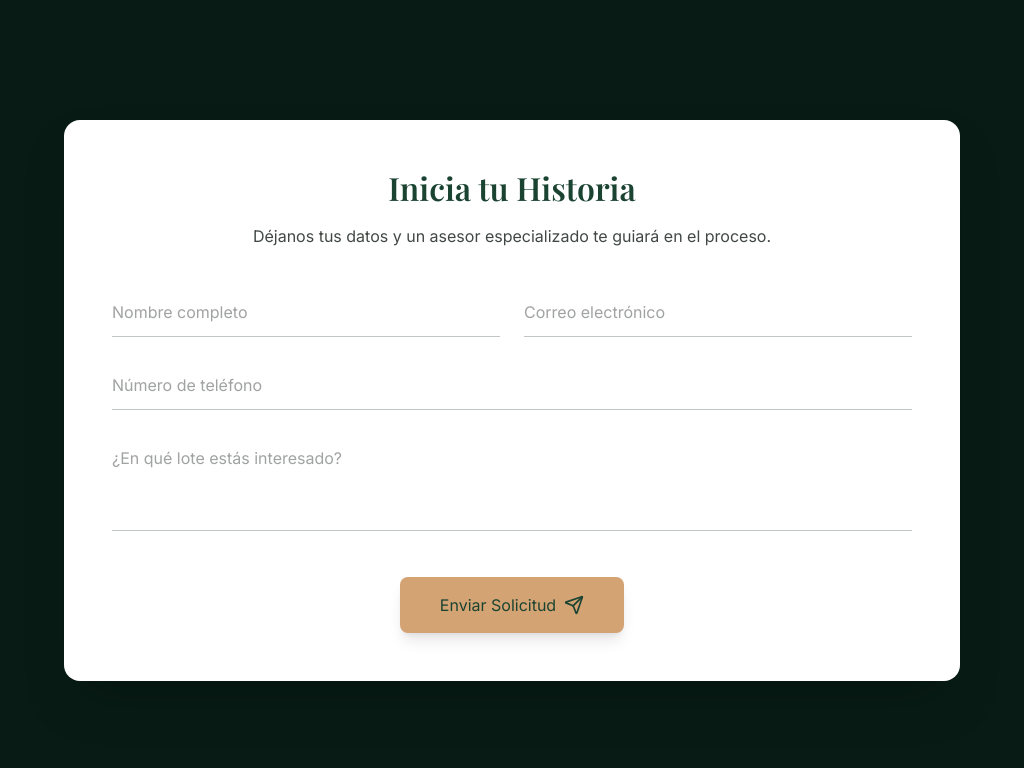
Scenario: ContactForm › validates email format
This screenshot has width=1024, height=768.
Type "Juan Pérez" into the field with placeholder "Nombre completo".
click(306, 312); type("Juan Pérez")  # box [112, 288, 500, 337]
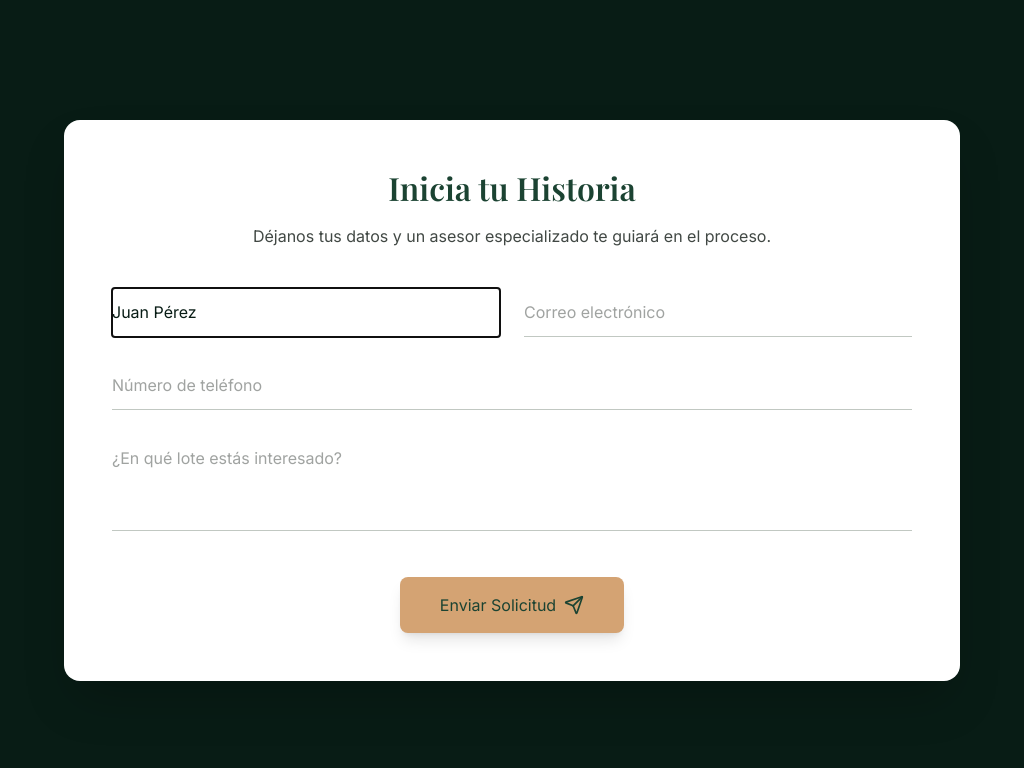
Type "email-invalido" into the field with placeholder "Correo electrónico".
click(718, 312); type("email-invalido")  # box [524, 288, 912, 337]
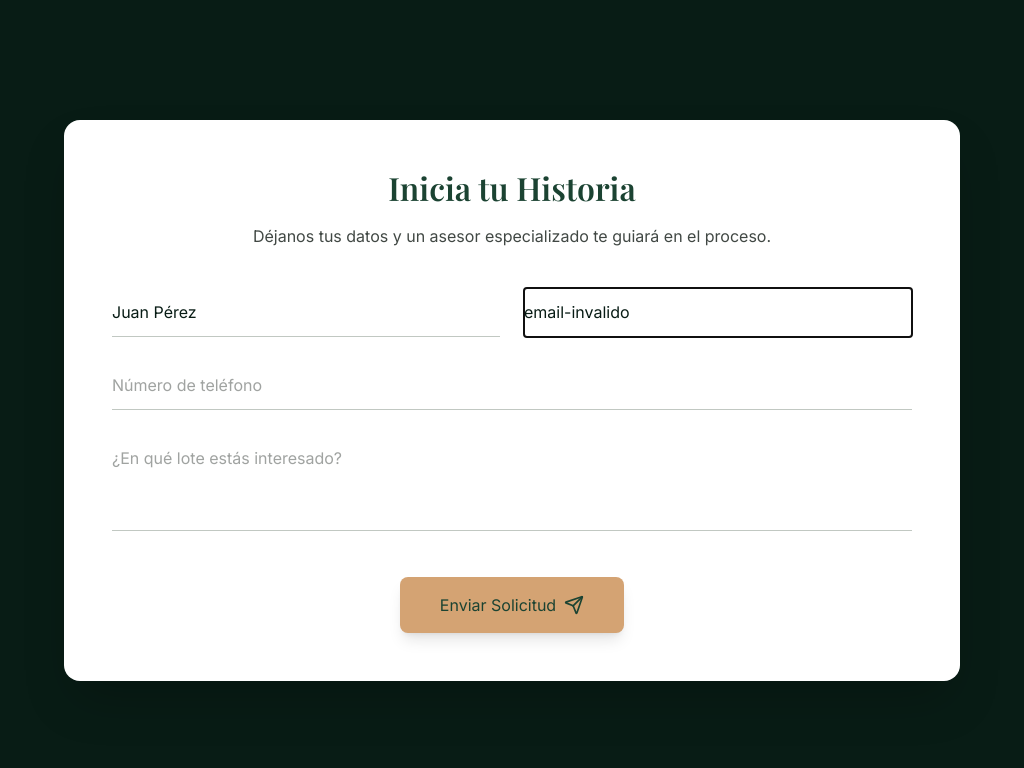
Type "3001234567" into the field with placeholder "Número de teléfono".
click(512, 386); type("3001234567")  # box [112, 361, 912, 410]
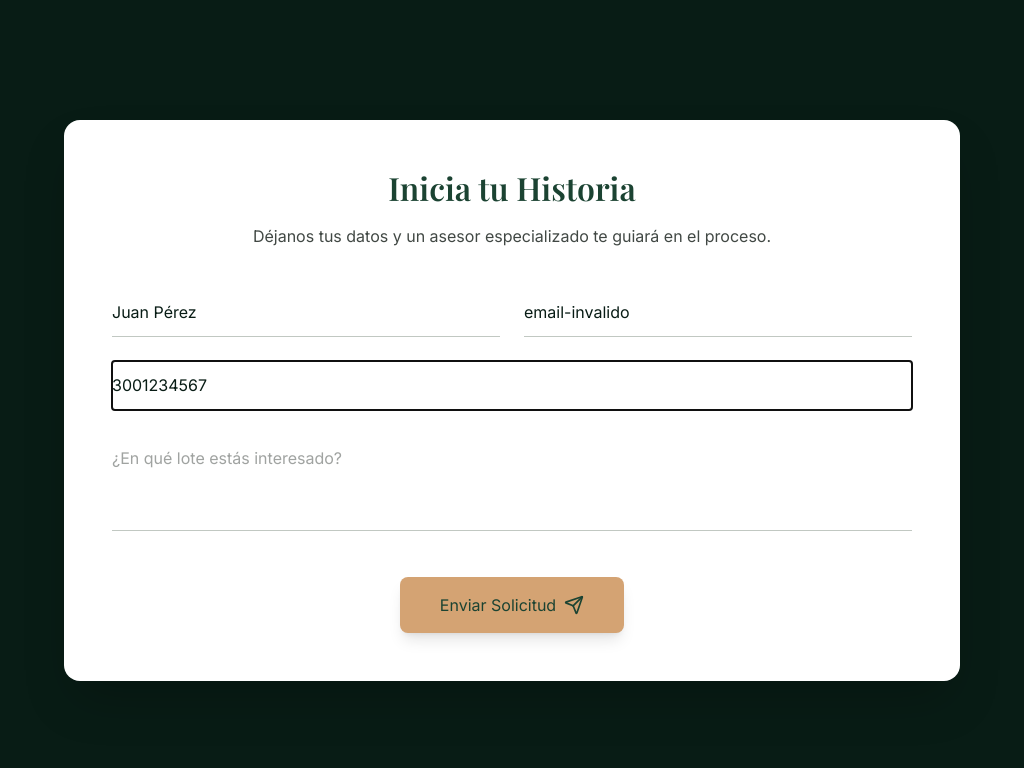
Click the button "Enviar Solicitud".
click(512, 605)  # box [400, 577, 624, 633]
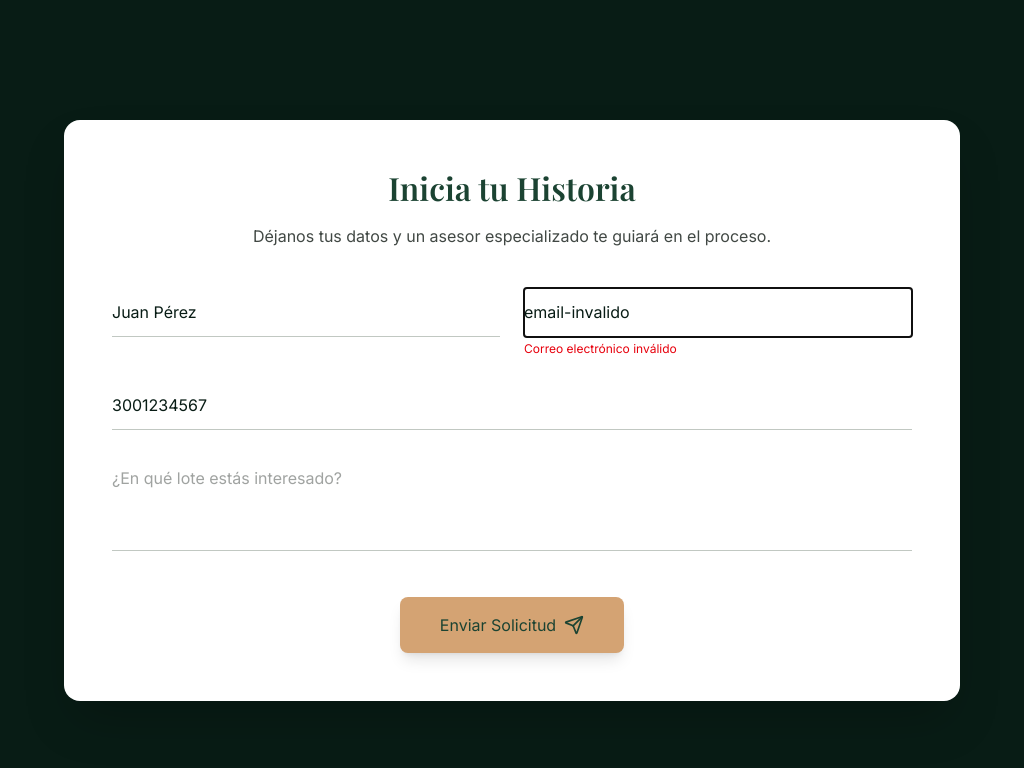
Expected: the text "Correo electrónico inválido" is shown, [524, 341, 677, 356]
